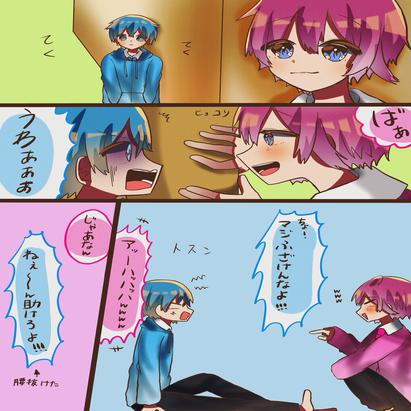bubble: (253, 210, 326, 333), (5, 231, 64, 370), (1, 106, 76, 200), (96, 225, 150, 344), (355, 107, 409, 151), (67, 211, 111, 262)
